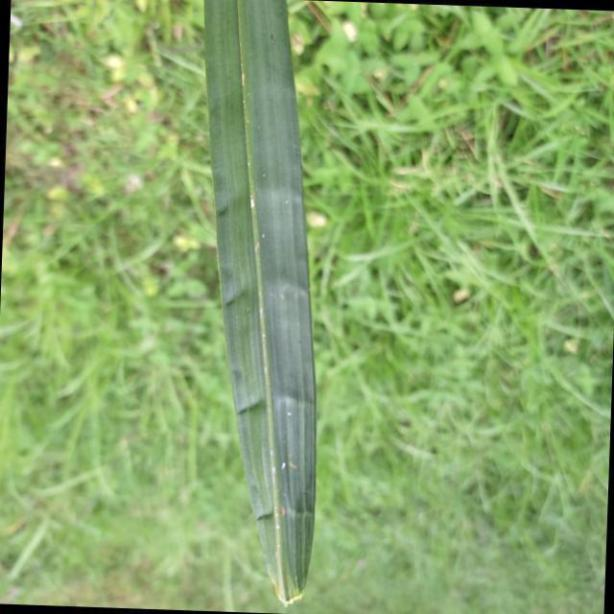Boron: (199, 0, 318, 612)
